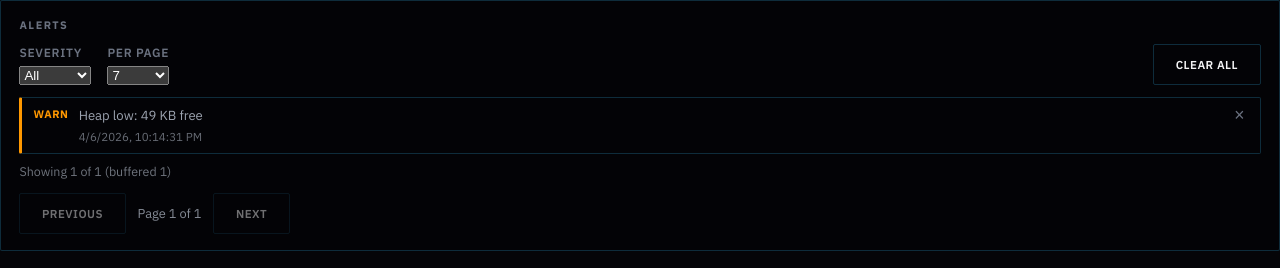
Test case: AlertFeedPanel › dismiss removes the alert
Click the button named "dismiss" at coordinates (1239, 116), box [1230,107,1248,124]
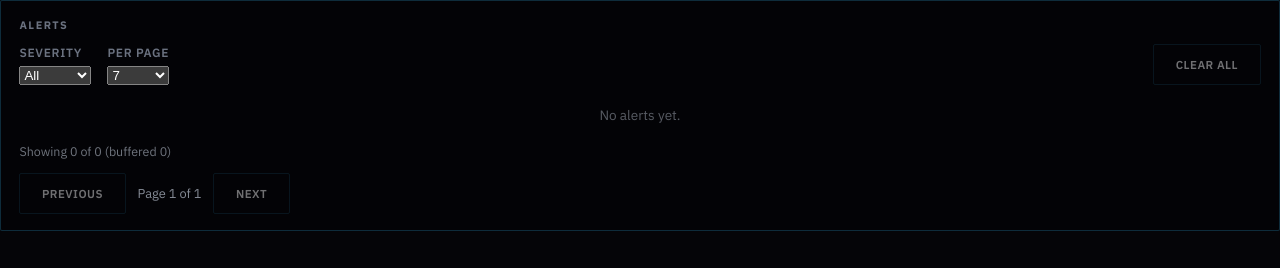
Expected: the text "No alerts yet." is shown, [599,106,681,124]
